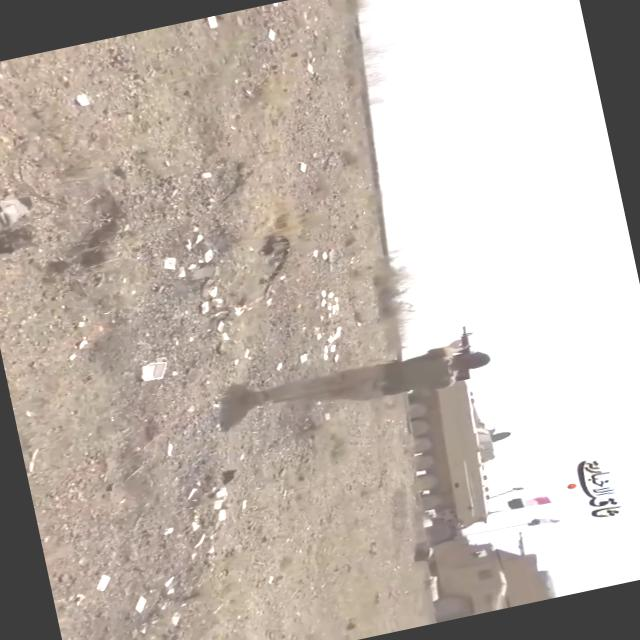long weapon: (444, 319, 484, 391)
